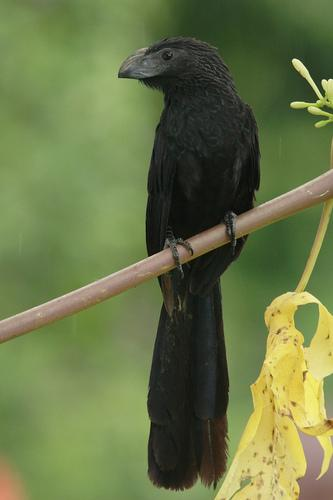004.Groove_billed_Ani: (116, 35, 265, 496)
